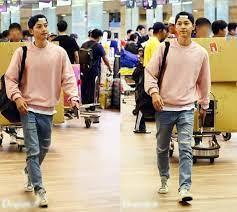pants: (154, 106, 196, 188), (21, 108, 55, 190)
sweater: (0, 42, 81, 120), (137, 36, 217, 112)
